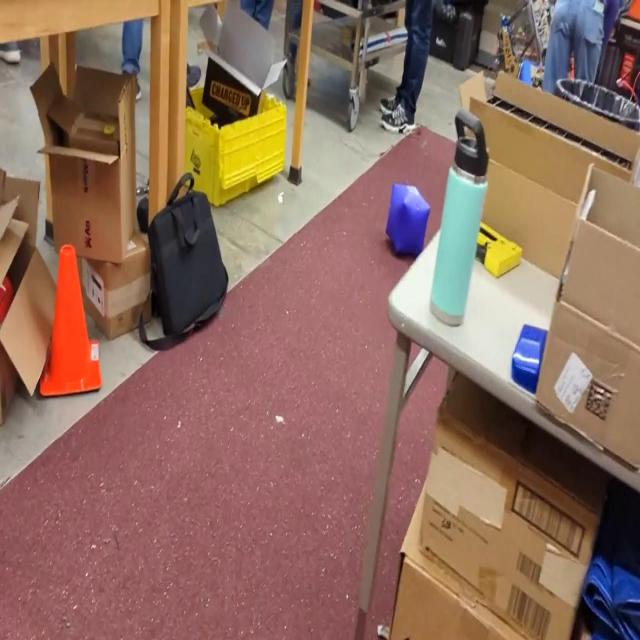frc_cube: (383, 181, 431, 257)
